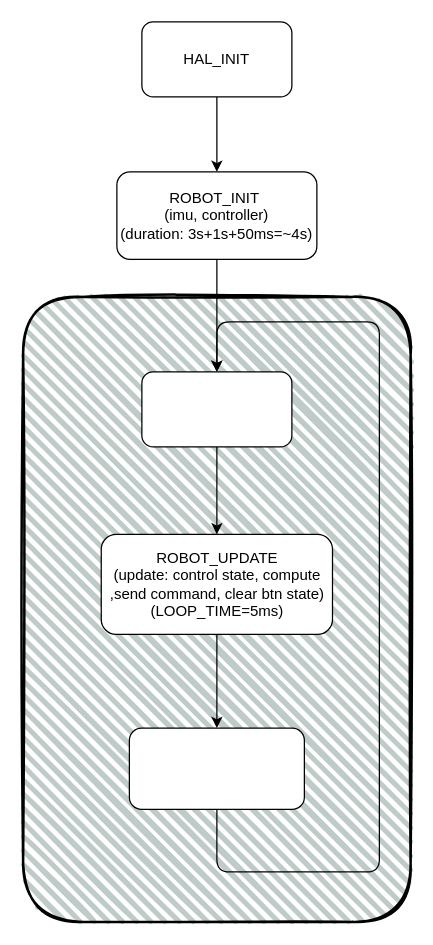
The diagram is 433 pixels wide and 945 high, and some of its shapes have lost their labels. Here are the shapes that lost their labels. From the top down, the box of each, then its label:
(141, 371, 292, 447): BUTTON_UPDATE (min 50 ticks)
(128, 727, 304, 809): ROBOT_LOG (send data to PC) (DEBUG_TIME=500ms)
